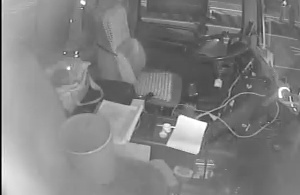paper: (166, 112, 208, 156)
